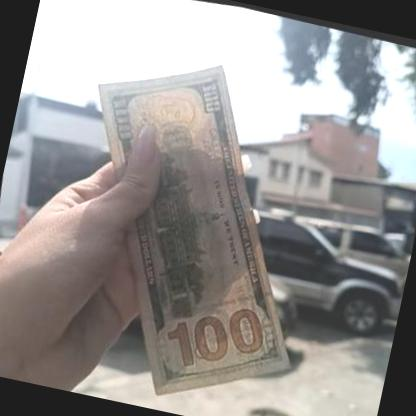one_hundred-back: (29, 22, 360, 416)
